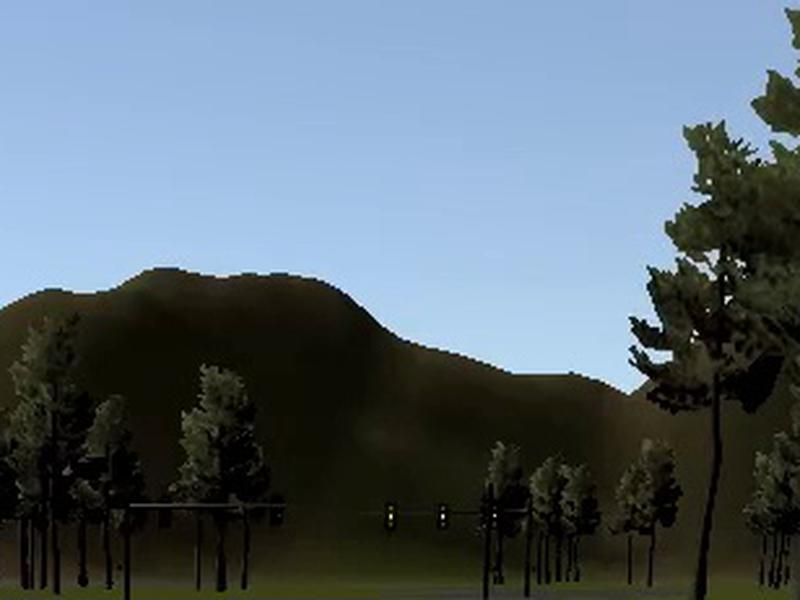Yellow: (435, 501, 451, 531), (384, 501, 399, 530)
